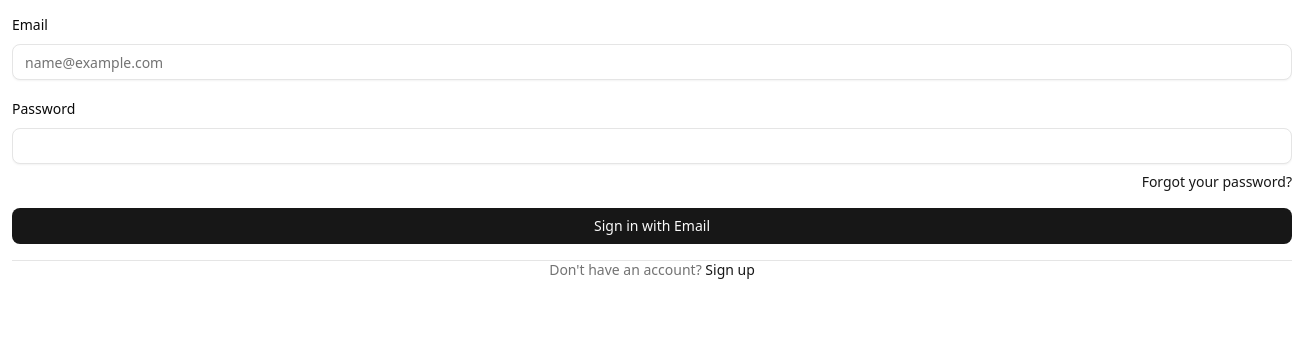
Scenario: LoginForm › validates required password
Submit form without password
Click the button with test id "login-submit-button": (652,226) [12, 208, 1292, 244]
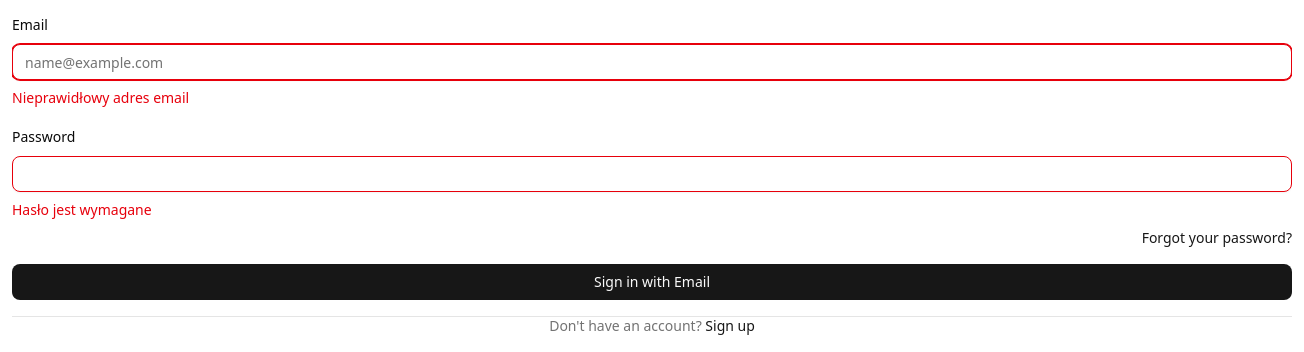
Check: the text "Hasło jest wymagane" is shown, box [12, 200, 152, 219]
Enter password
In the password field with test id "login-password-input": (652,174) [12, 156, 1292, 192], type "password123"
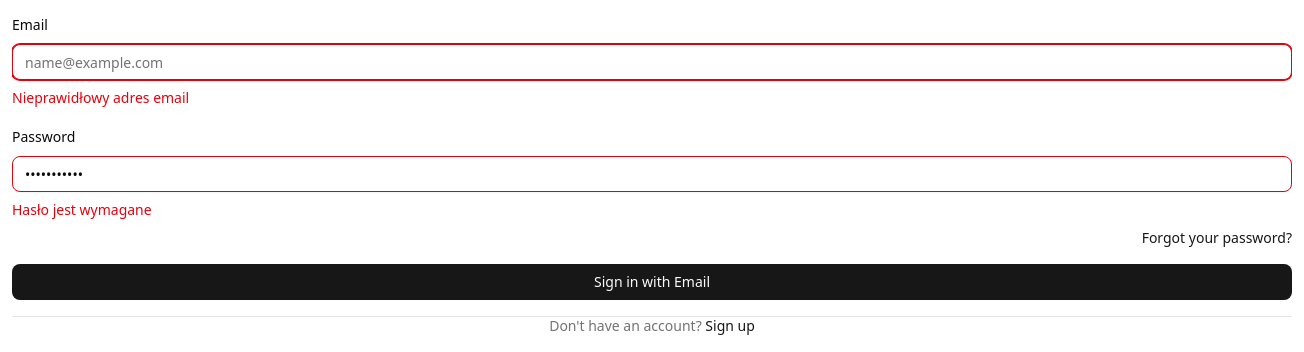
Leave the password field with test id "login-password-input", box [12, 156, 1292, 192]
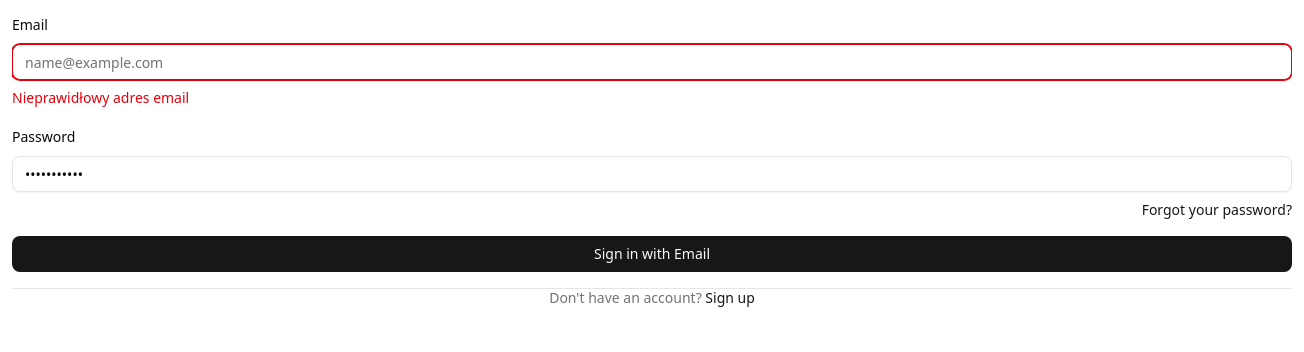
Check: the text "Hasło jest wymagane" is gone
